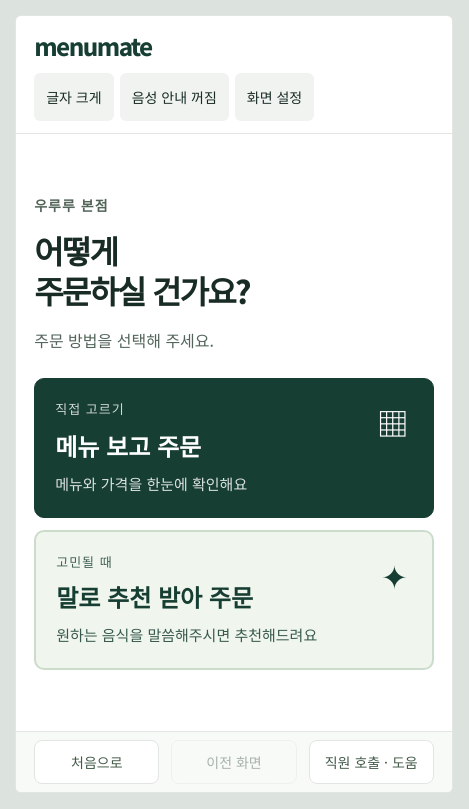
Test: React prototype › highlights how the request was understood
Click the button "고민될 때 말로 추천 받아 주문 원하는 음식을 말씀해주시면 추천해드려요 ✦".
click(234, 600)  # box [34,530,434,670]
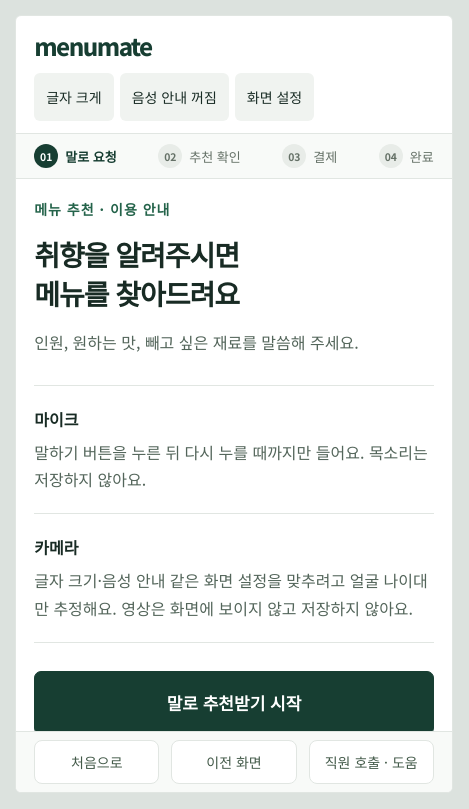
Click the button "말로 추천받기 시작".
click(234, 703)  # box [34,671,434,735]
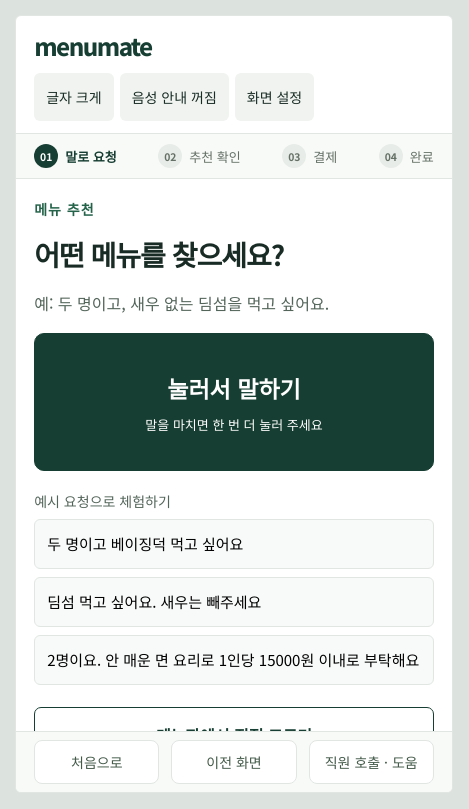
Click the button "두 명이고 베이징덕 먹고 싶어요".
click(234, 544)  # box [34,519,434,569]
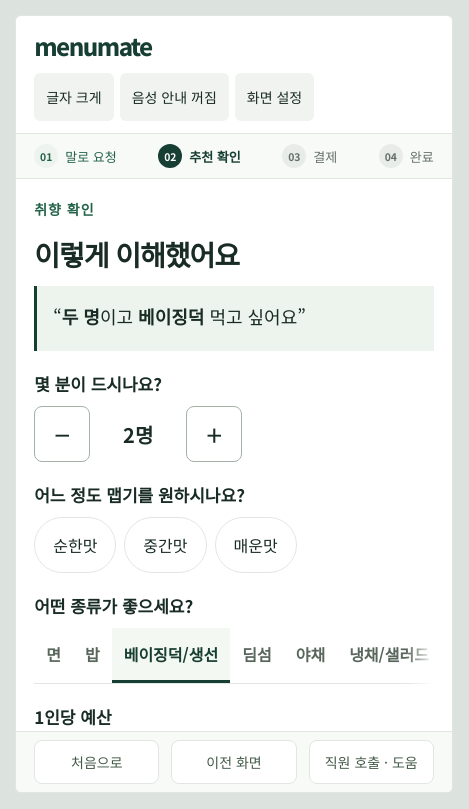
Now the text "두 명" is shown, box [62,303,100,329]
Now the text "베이징덕" is shown, box [138,303,204,329]
